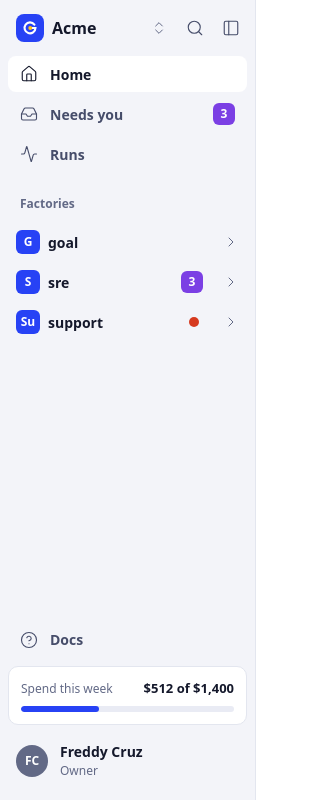
Test: the collapsed rail › keeps New item disabled, and says what it is and why
The width and height of the screenshot is (320, 800).
Click the button named "Collapse sidebar": {"x": 231, "y": 28} [215,12,247,44]
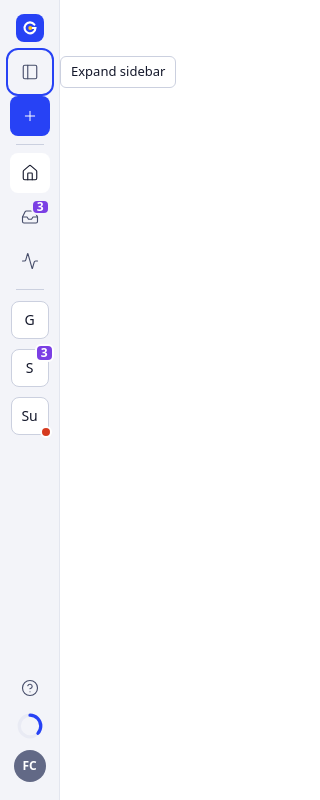
Check: the button named "New item" is disabled
Focus the button named "New item": {"x": 30, "y": 116} [10,96,50,136]
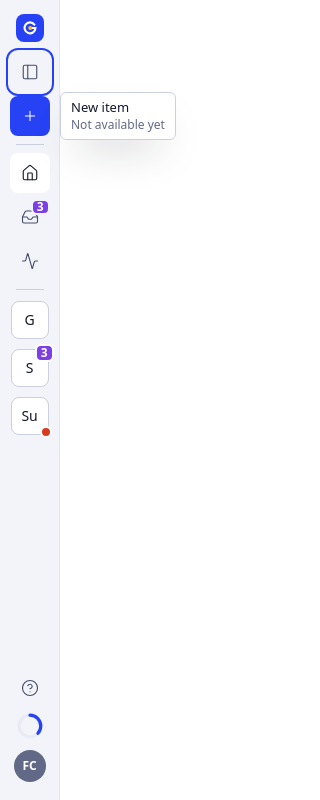
Check: the tooltip "New item" is shown, box [71,98,129,116]
Check: the text "Not available yet" is shown, box [71,116,165,132]
